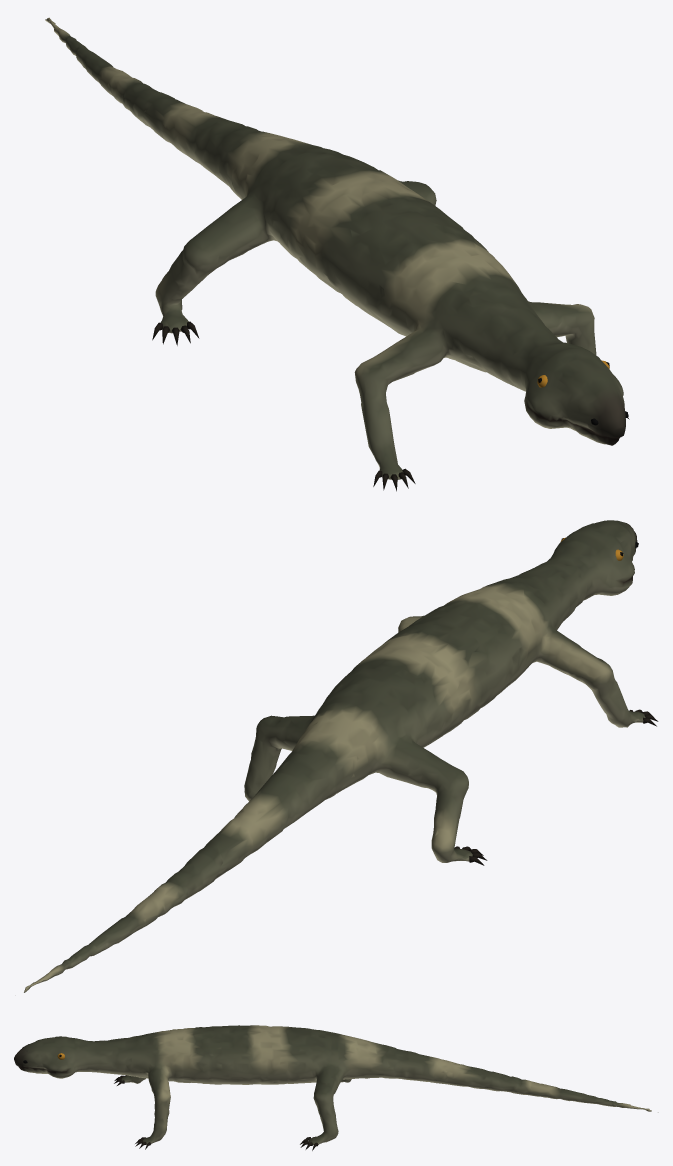
File: Trilophosaurus.fbx
The picture shows the model from 3 angles, top to bottom: view 1: azimuth 30°, elevation 25°; view 2: azimuth 150°, elevation 25°; view 3: azimuth 270°, elevation 25°; orthographic projection. The views are drawn at different scales.
Visible parts, largest first — view 1: Trilophosaurus; view 2: Trilophosaurus; view 3: Trilophosaurus.
Boxes of the visible parts, box(x1,y1,x2,y2) form: Trilophosaurus: box(45, 17, 629, 491); Trilophosaurus: box(24, 520, 658, 992); Trilophosaurus: box(14, 1025, 658, 1150).
Size of the model in its own units: 0.5359 by 0.2973 by 2.
